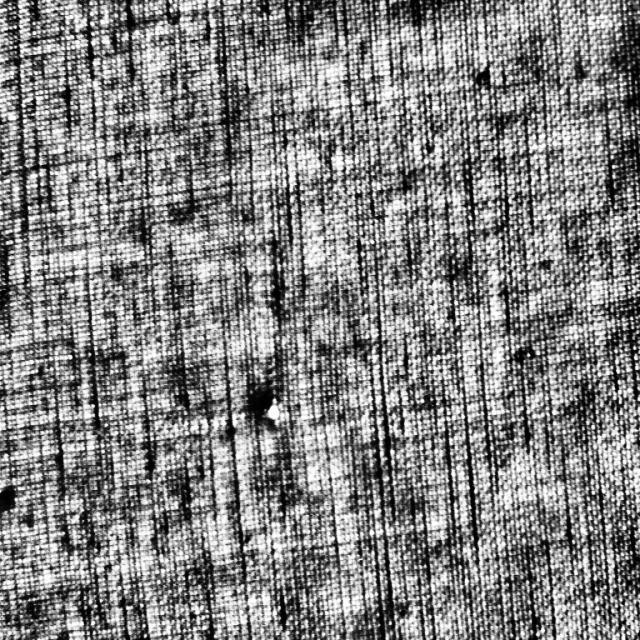cut: (258, 393, 281, 428)
